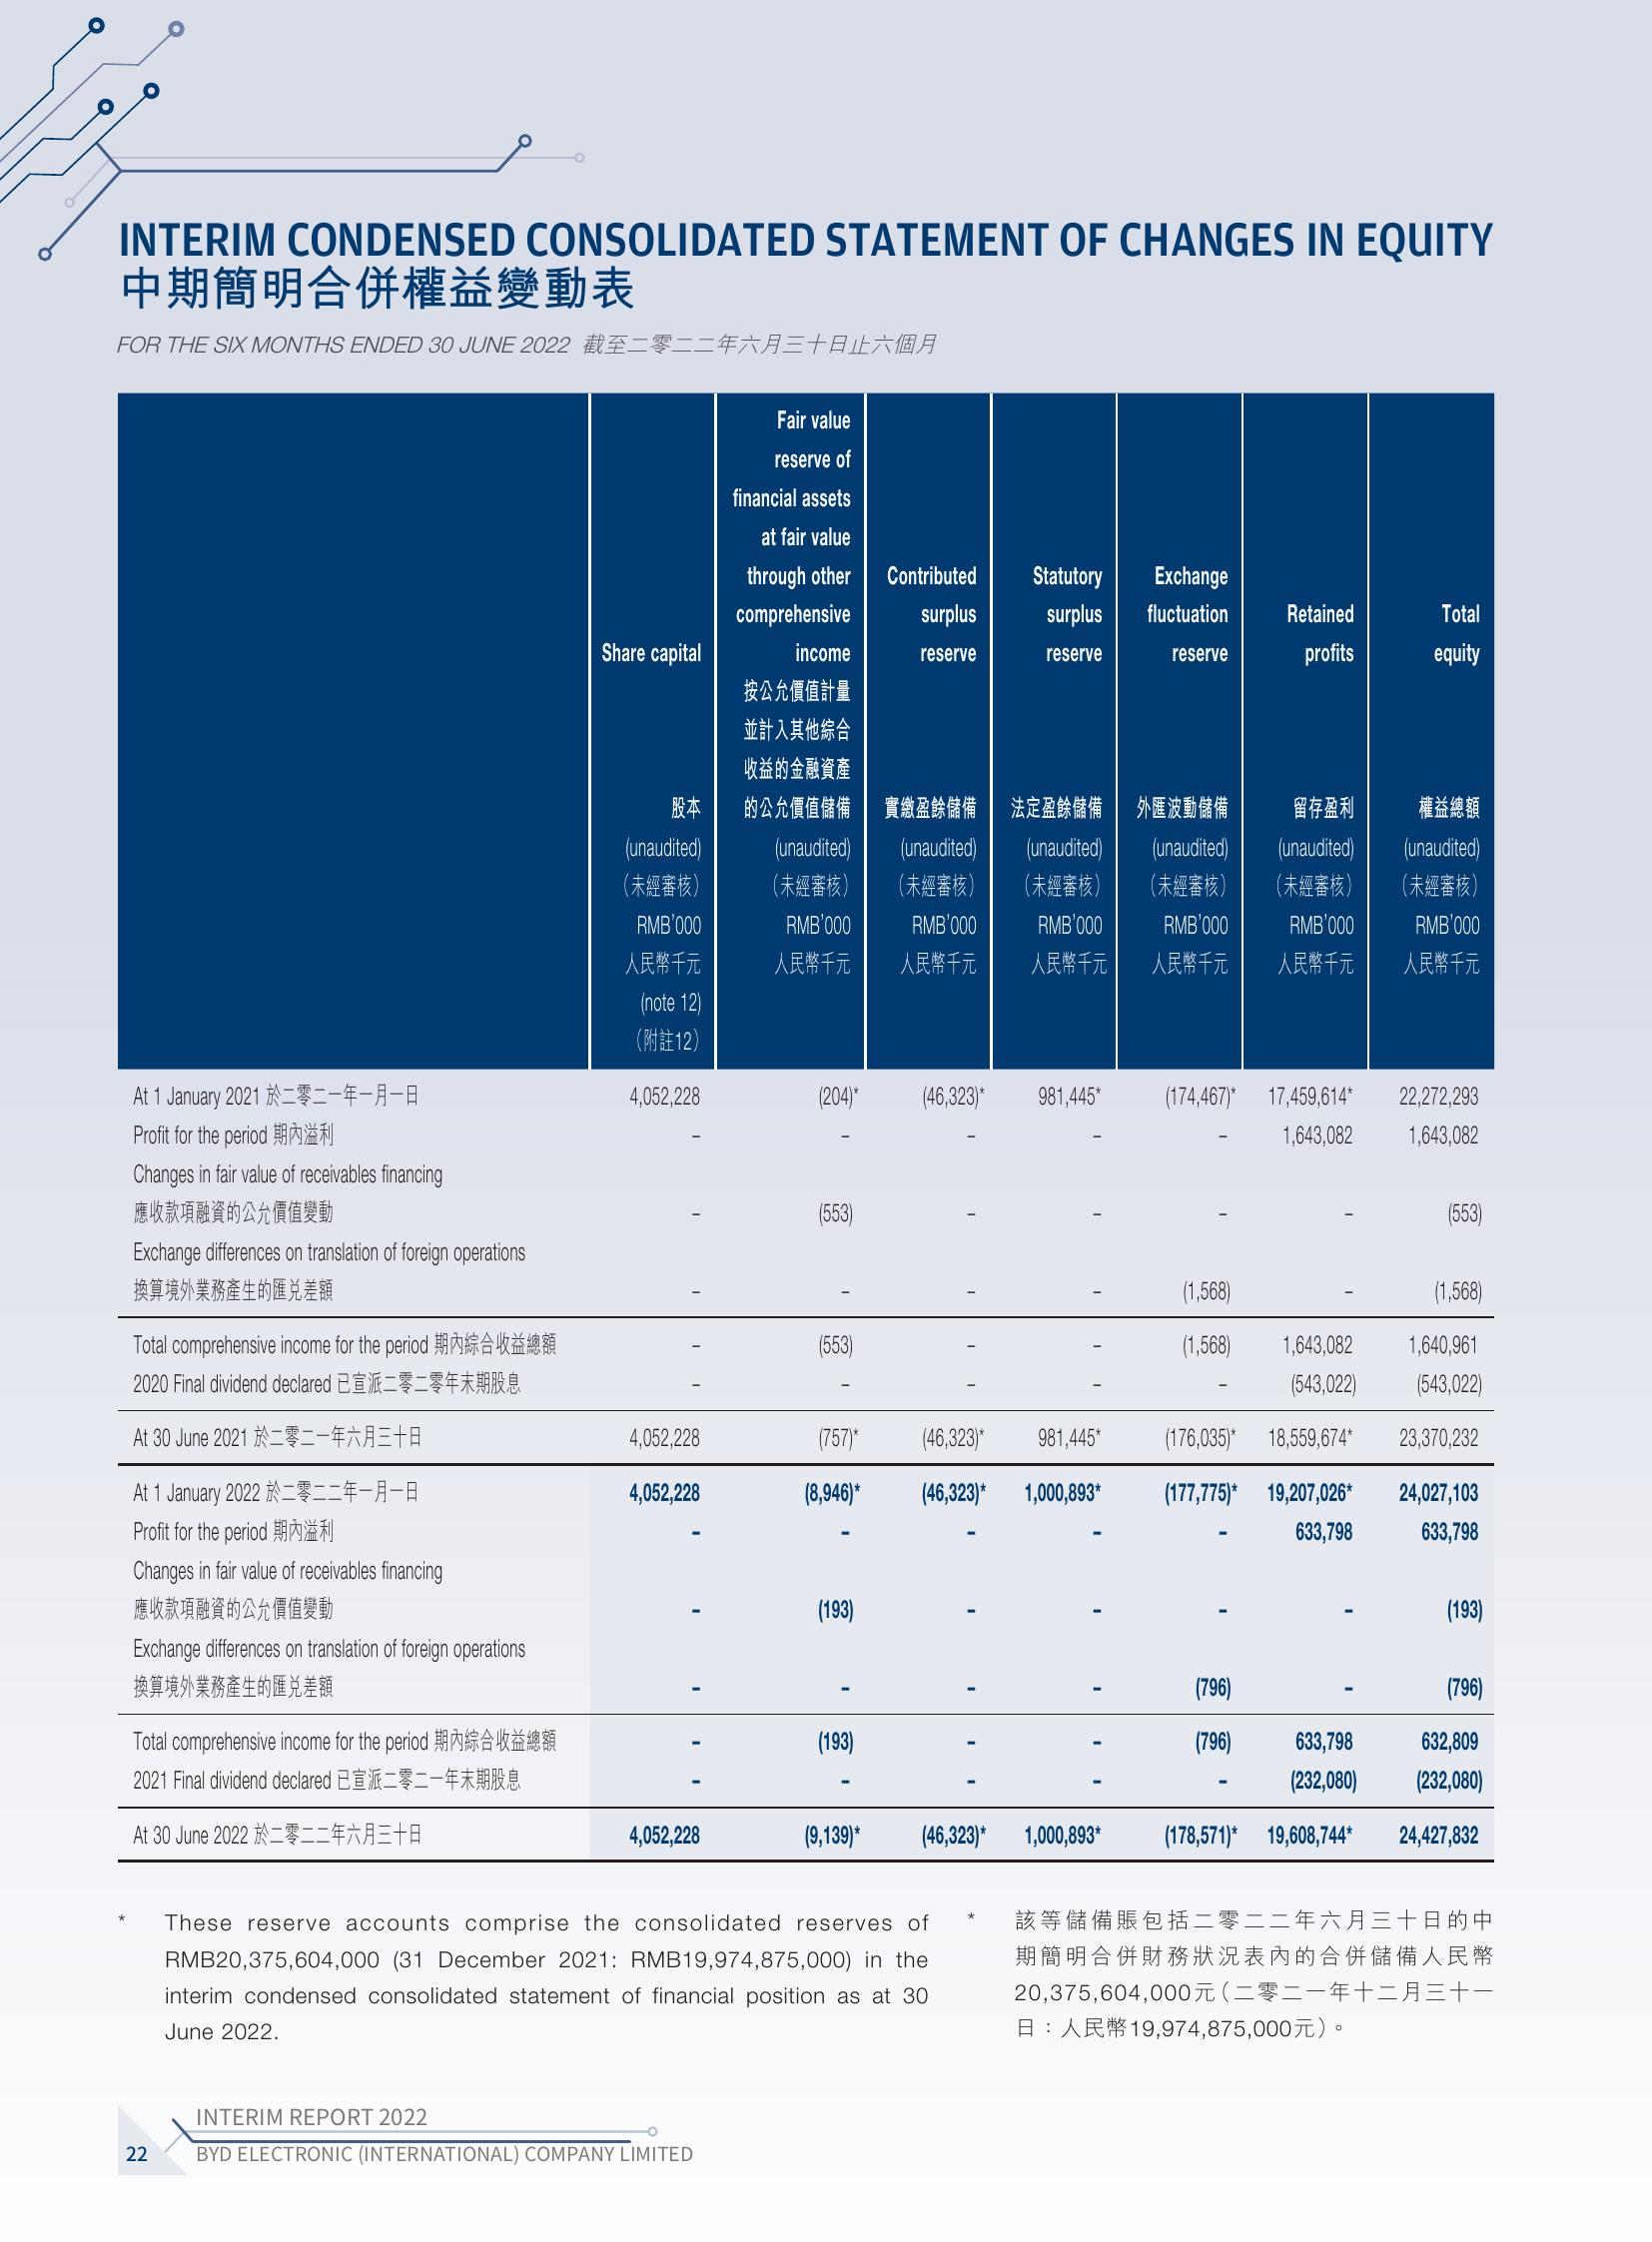Footer: (0, 2089, 1652, 2242)
Header: (0, 0, 1652, 188)
Table: (87, 368, 1538, 1867)
